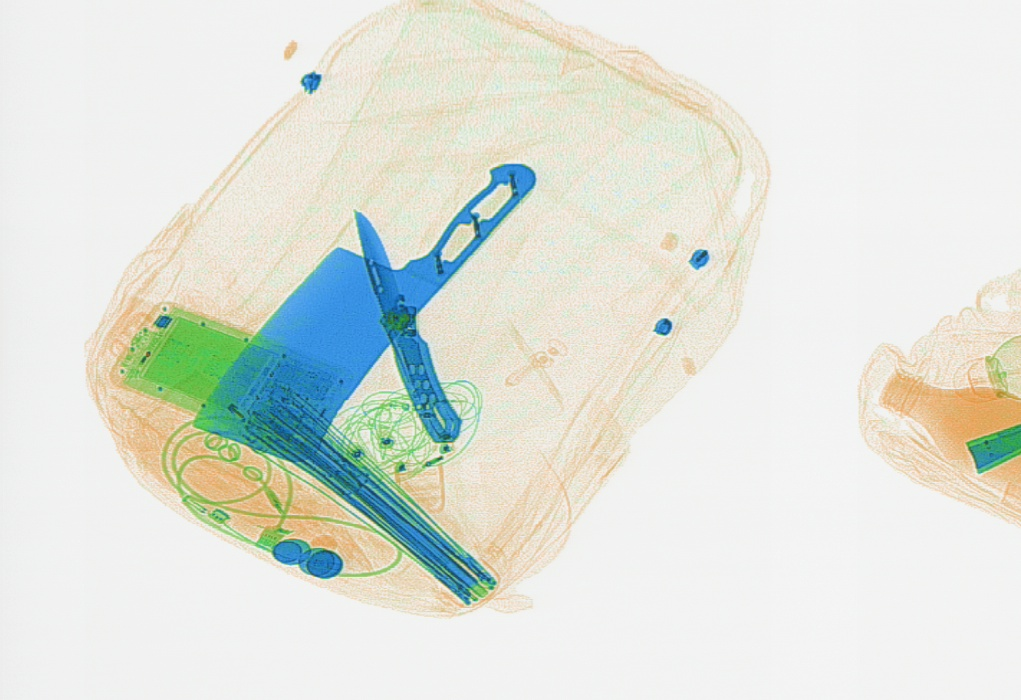knife: (189, 156, 538, 462), (347, 206, 460, 443)
lighter: (173, 367, 272, 454)
